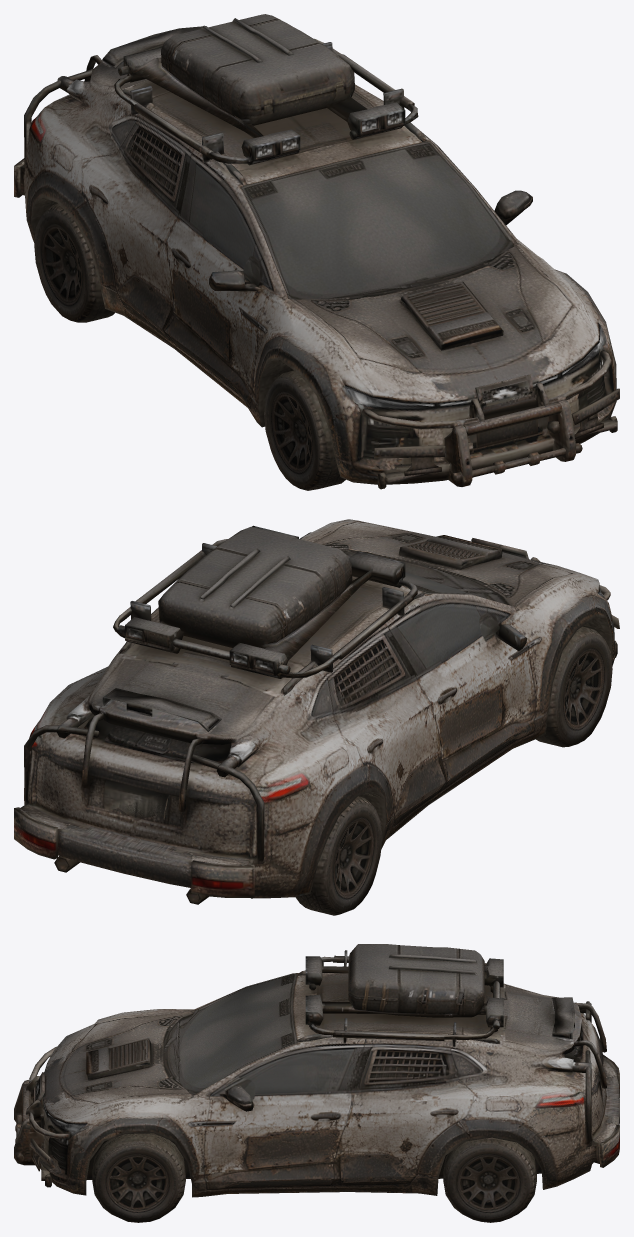
Rendered from car-prop.glb.
3 views of the same model, one above another, from view 1: azimuth 30°, elevation 25°; view 2: azimuth 150°, elevation 25°; view 3: azimuth 270°, elevation 25° (orthographic). The views are drawn at different scales.
Parts seen in each view (by area): view 1: tripo_node_9301d9ee-a00e-4a60-ae3b-6c43355d8520; view 2: tripo_node_9301d9ee-a00e-4a60-ae3b-6c43355d8520; view 3: tripo_node_9301d9ee-a00e-4a60-ae3b-6c43355d8520.
Boxes of the visible parts, bbox=[...] form: tripo_node_9301d9ee-a00e-4a60-ae3b-6c43355d8520: bbox=[14, 14, 619, 490]; tripo_node_9301d9ee-a00e-4a60-ae3b-6c43355d8520: bbox=[14, 519, 619, 915]; tripo_node_9301d9ee-a00e-4a60-ae3b-6c43355d8520: bbox=[14, 944, 619, 1222].
Bounding box in the file's own units: 0.4629 × 0.3848 × 0.998.
Materials: 1 (1 with a texture image).
